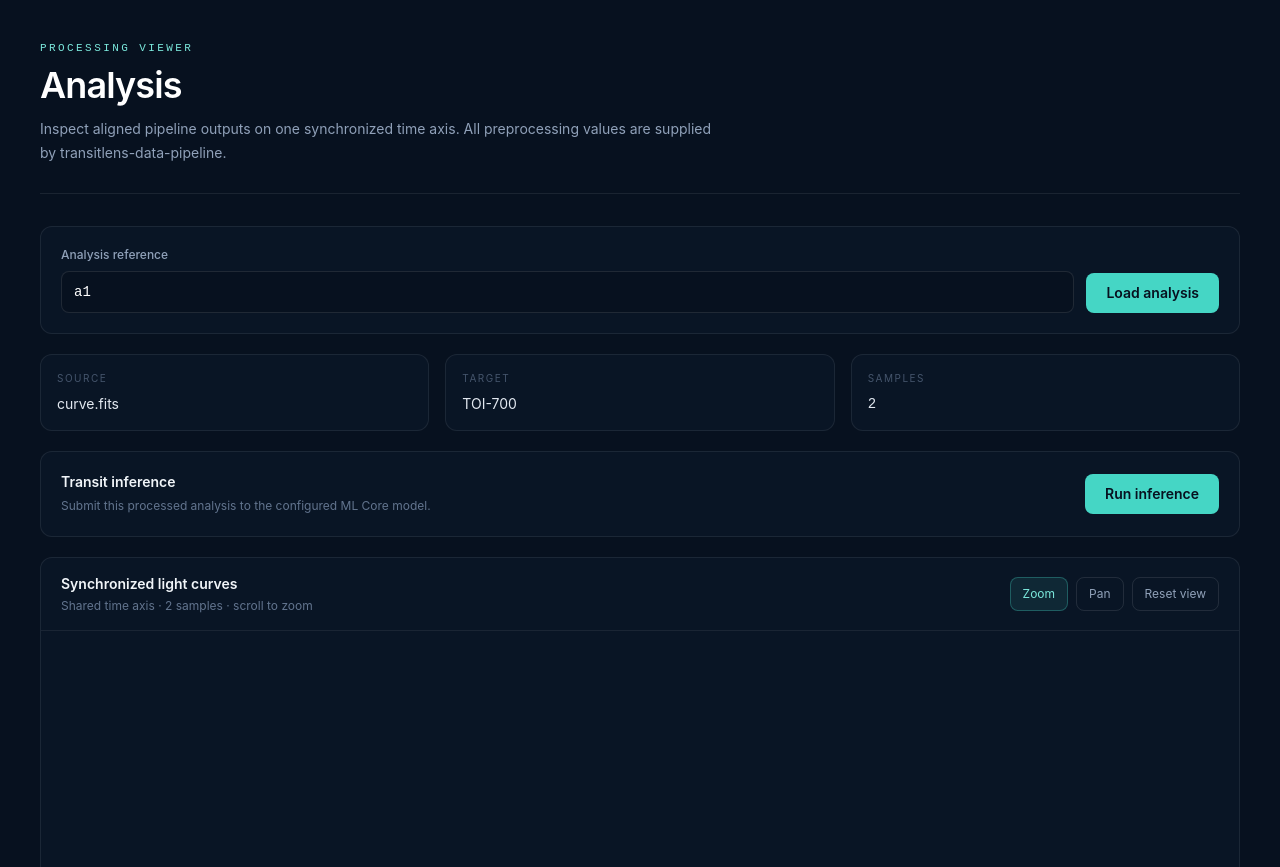
Test: AnalysisPage › runs ML Core inference and displays its result
This screenshot has width=1280, height=867.
Click the button "Run inference".
click(1152, 494)  # box [1085,474,1219,514]
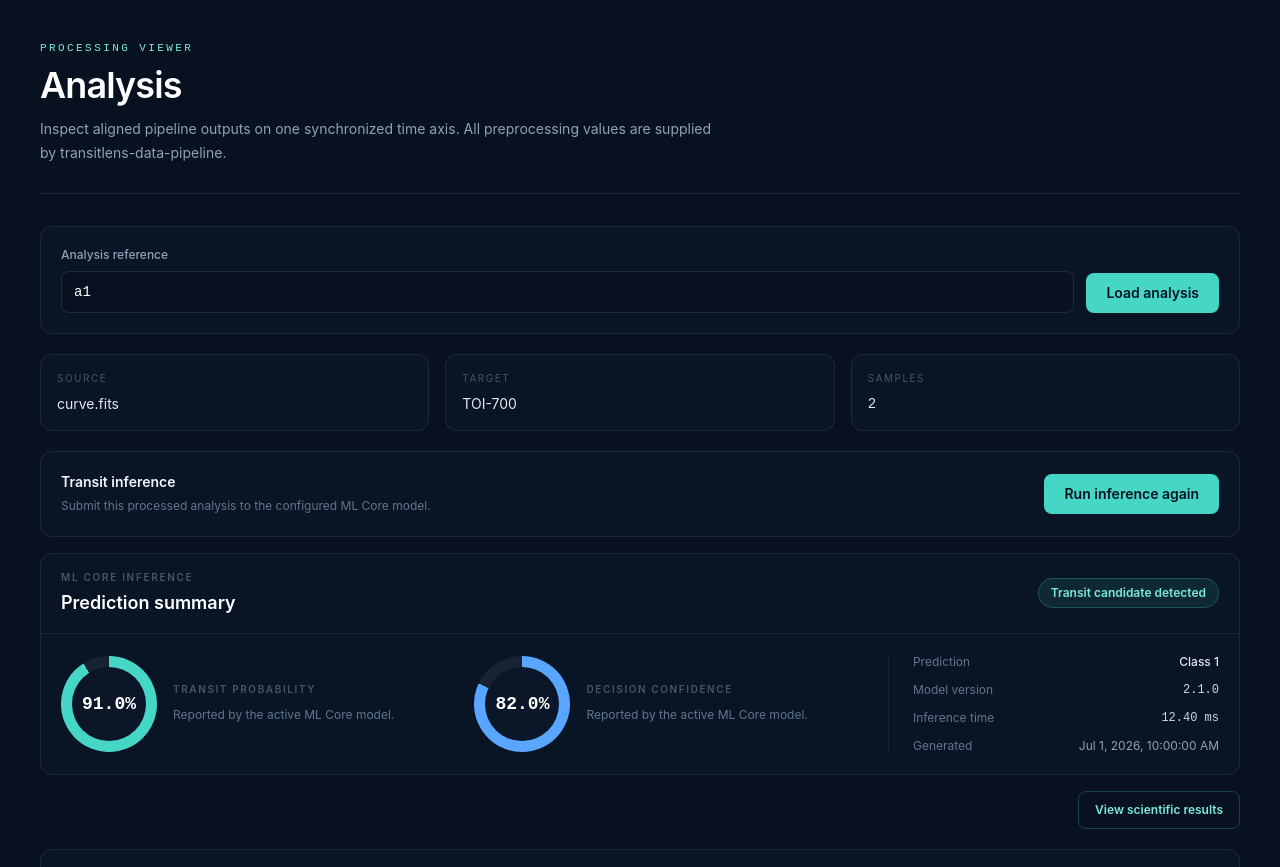
Now the text "Transit candidate detected" is shown, box [1038,578,1219,608]
Now the text "2.1.0" is shown, box [1183,682,1219,698]
